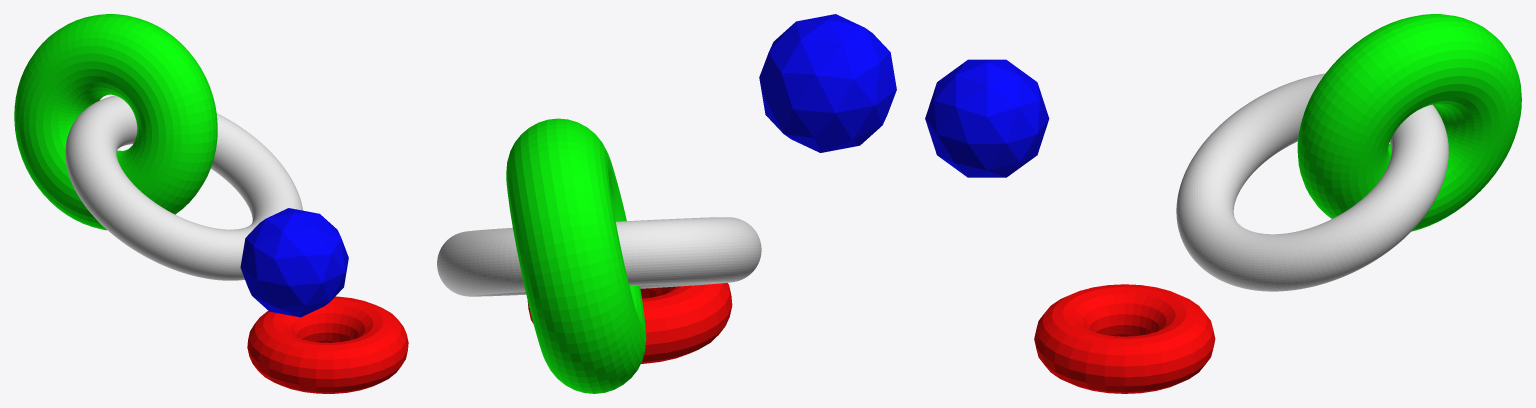
File: scene_color.fbx
3 renders of one model, left to right at view 1: azimuth 30°, elevation 25°; view 2: azimuth 150°, elevation 25°; view 3: azimuth 270°, elevation 25°, orthographic. The views are drawn at different scales.
Parts seen in each view (by area): view 1: Torus.001, Torus.003, Torus, Icosphere; view 2: Torus.001, Icosphere, Torus.003, Torus; view 3: Torus.001, Torus.003, Torus, Icosphere.
Boxes of the visible parts, bbox=[...] form: Torus.001: bbox=[14, 14, 217, 230]; Torus.003: bbox=[65, 95, 302, 280]; Torus: bbox=[247, 296, 408, 393]; Icosphere: bbox=[240, 208, 348, 317]; Torus.001: bbox=[506, 118, 646, 393]; Icosphere: bbox=[759, 14, 896, 152]; Torus.003: bbox=[437, 217, 761, 296]; Torus: bbox=[527, 283, 732, 363]; Torus.001: bbox=[1297, 14, 1521, 231]; Torus.003: bbox=[1176, 73, 1448, 291]; Torus: bbox=[1034, 284, 1215, 393]; Icosphere: bbox=[925, 59, 1049, 177].
Bounding box in the file's own units: 268 × 292 × 520.
